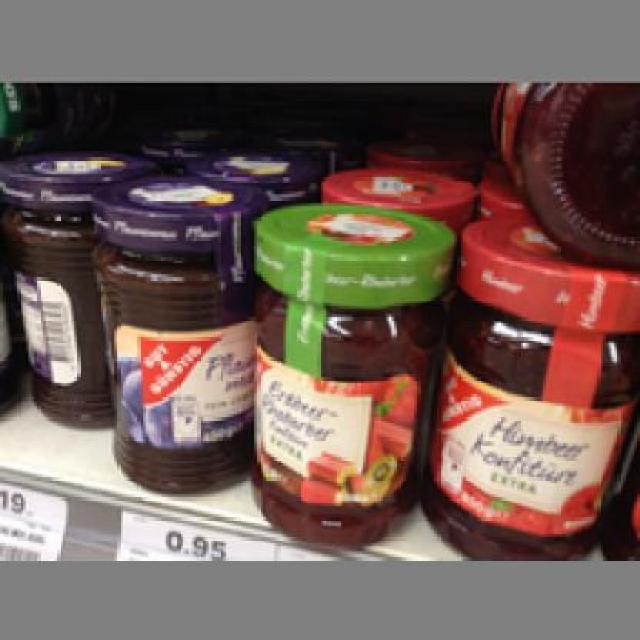Jam: (245, 196, 458, 550), (420, 214, 634, 557), (85, 174, 258, 492), (0, 147, 152, 426)
